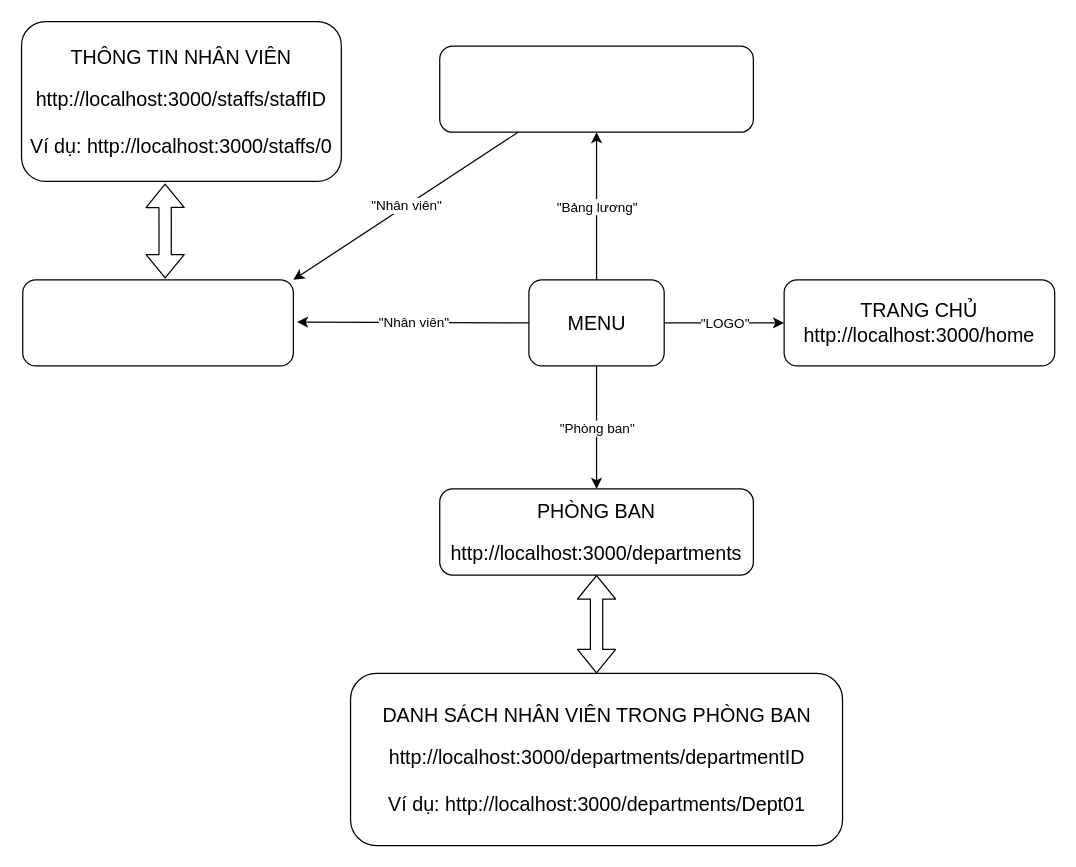
The diagram is 1076 pixels wide and 867 high, and some of its shapes have lost their labels. The centre of each missing label's shape, as x and y in pixels:
BẢNG LƯƠNG http://localhost:3000/salary: the point at 595,88
NHÂN VIÊN http://localhost:3000/staffs: the point at 157,322
